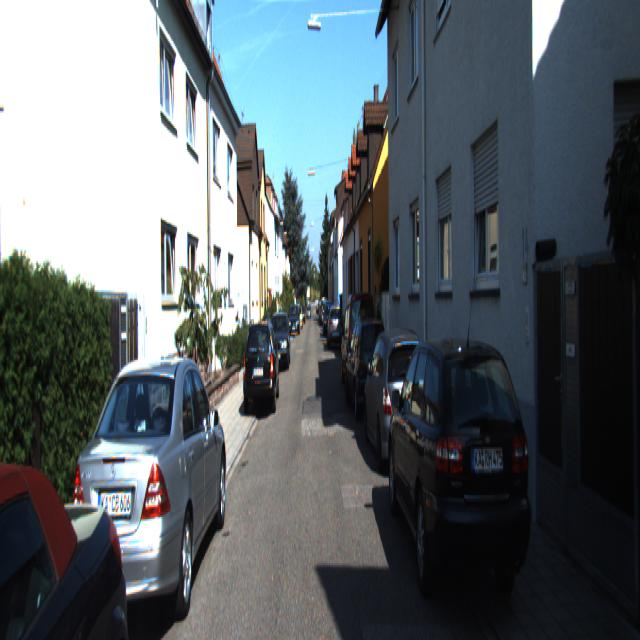Car: (386, 323, 538, 638), (72, 342, 230, 638), (362, 322, 434, 484), (346, 314, 393, 432), (342, 289, 377, 402), (243, 316, 279, 416), (268, 312, 290, 376), (328, 304, 344, 350)
